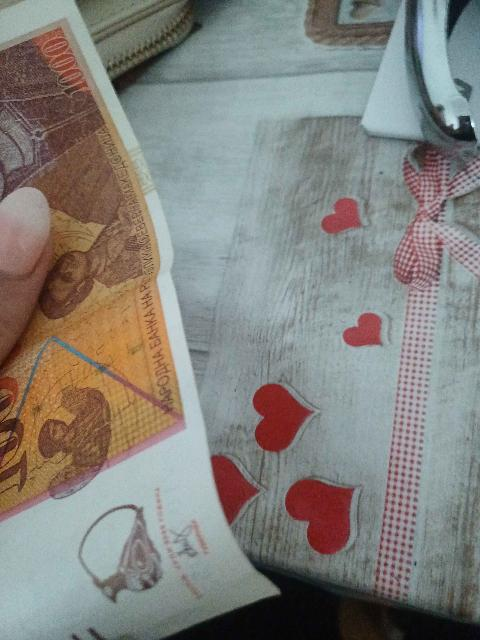note: (0, 0, 259, 639)
